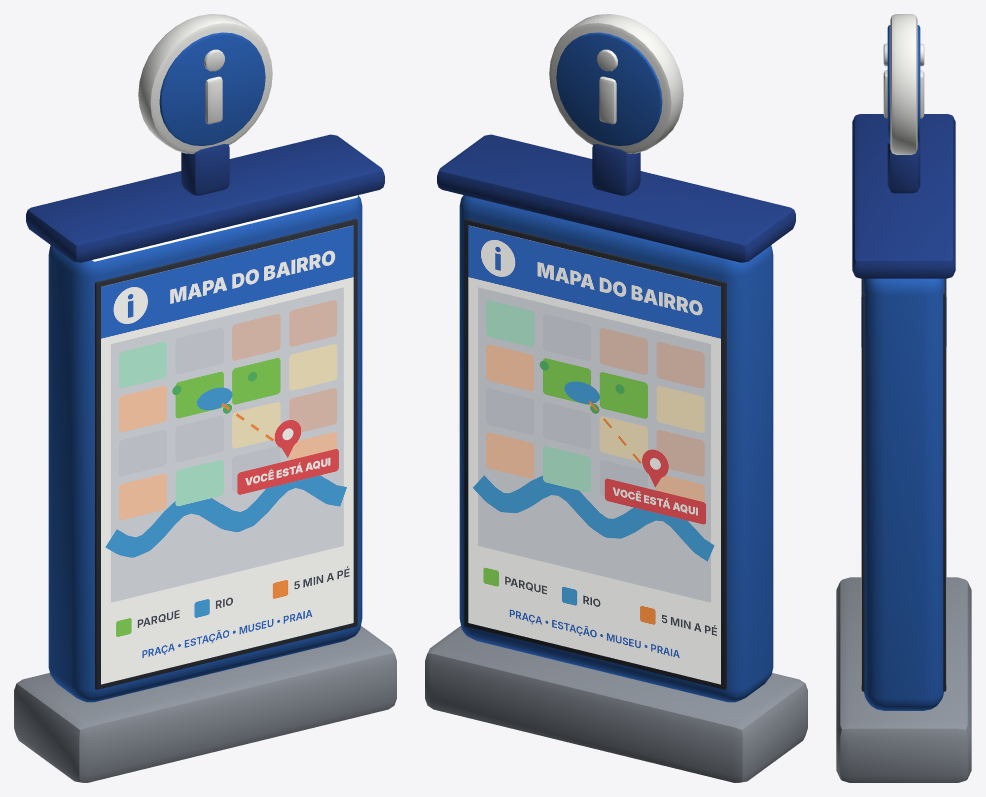
The model's file is totem_informacao_mapa.glb.
3 renders of one model, left to right at view 1: azimuth 30°, elevation 25°; view 2: azimuth 150°, elevation 25°; view 3: azimuth 270°, elevation 25°, orthographic. The views are drawn at different scales.
Parts seen in each view (by area): view 1: totem_informacao_mapa; view 2: totem_informacao_mapa; view 3: totem_informacao_mapa.
Boxes of the visible parts, x1,y1,x2,y2 form: totem_informacao_mapa: [14, 14, 396, 782]; totem_informacao_mapa: [425, 14, 807, 782]; totem_informacao_mapa: [836, 14, 971, 782].
Size of the model in its own units: 1.35 by 2.81 by 0.5.
3 materials, 2 textured.
